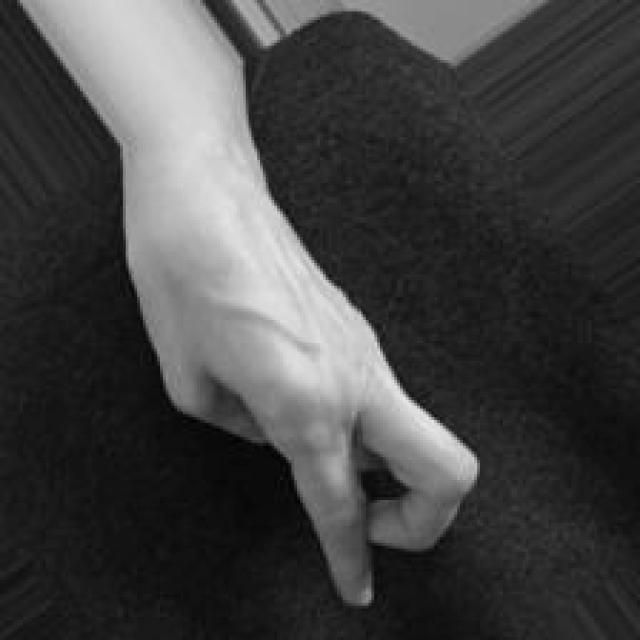P: (126, 195, 488, 614)
